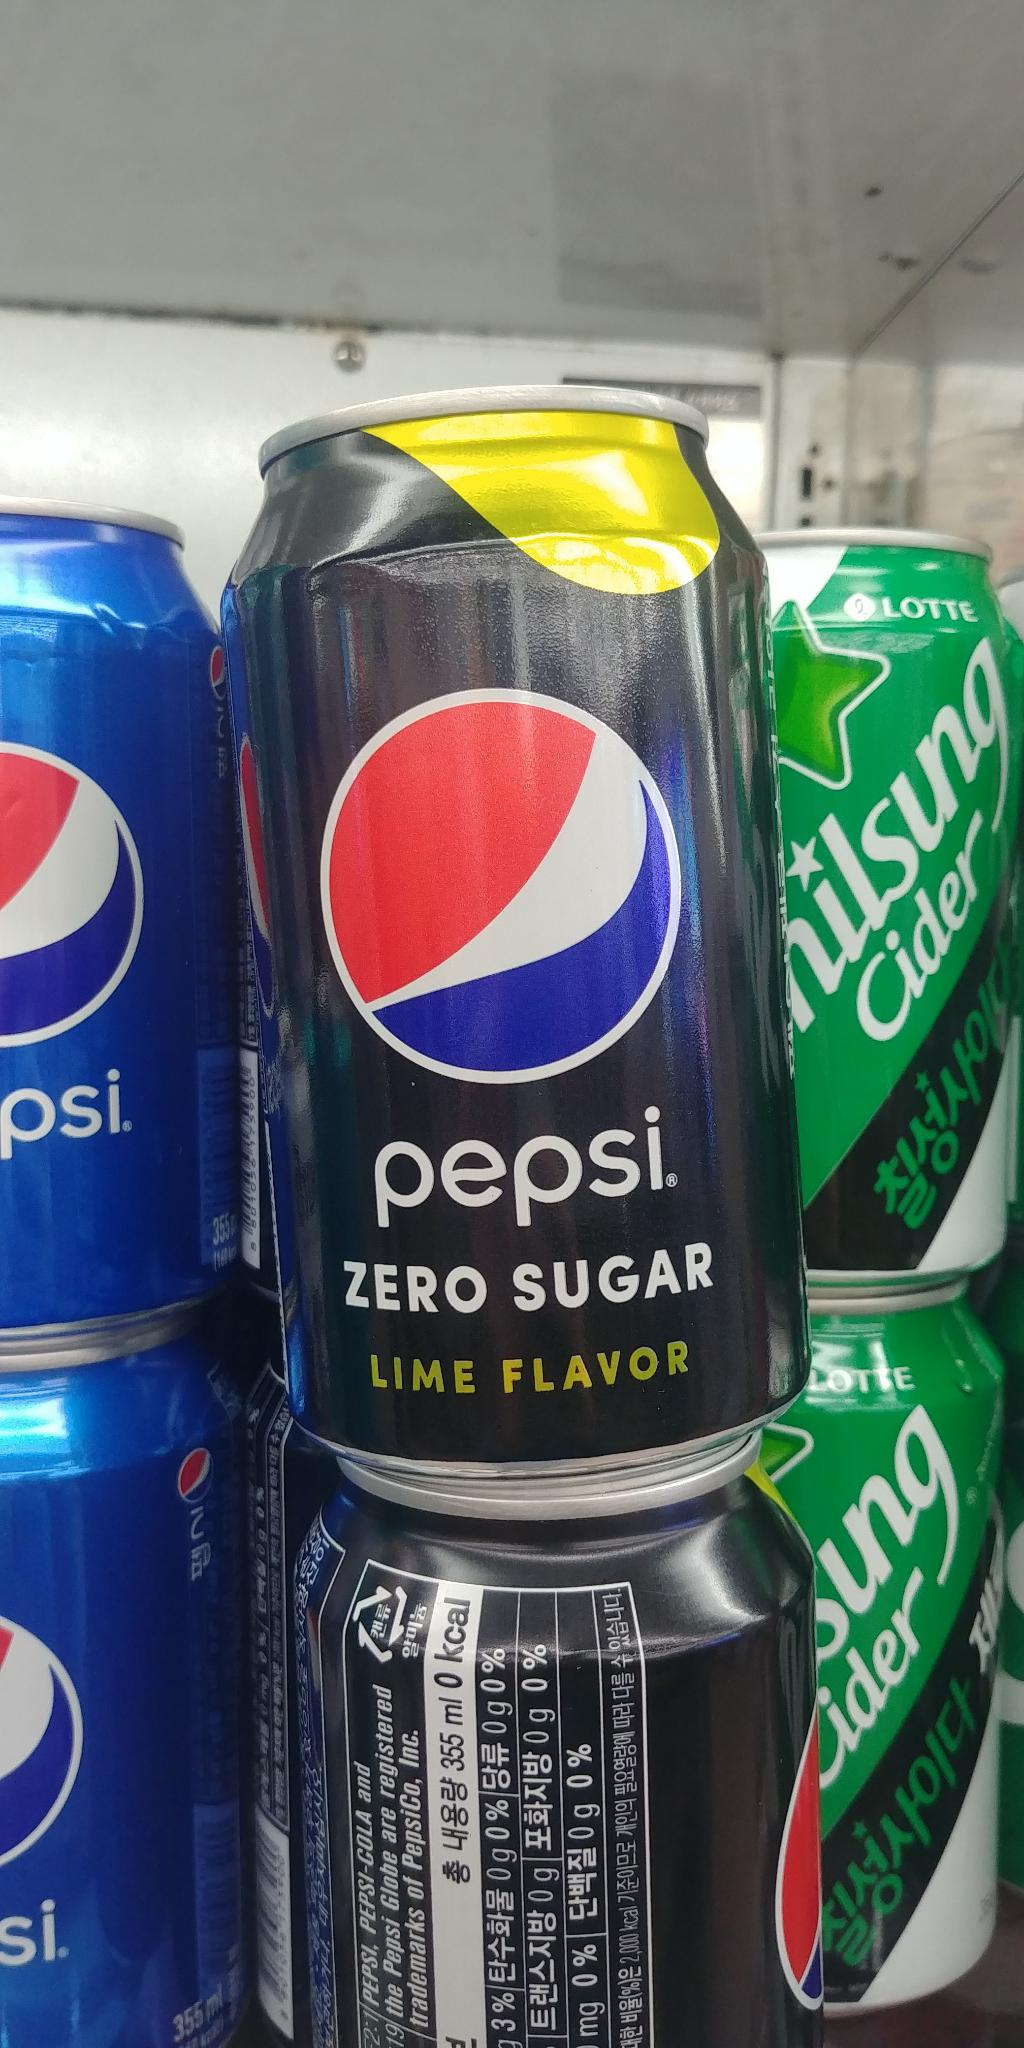pepsi_zero: (244, 384, 844, 1464), (283, 1430, 827, 2048)
